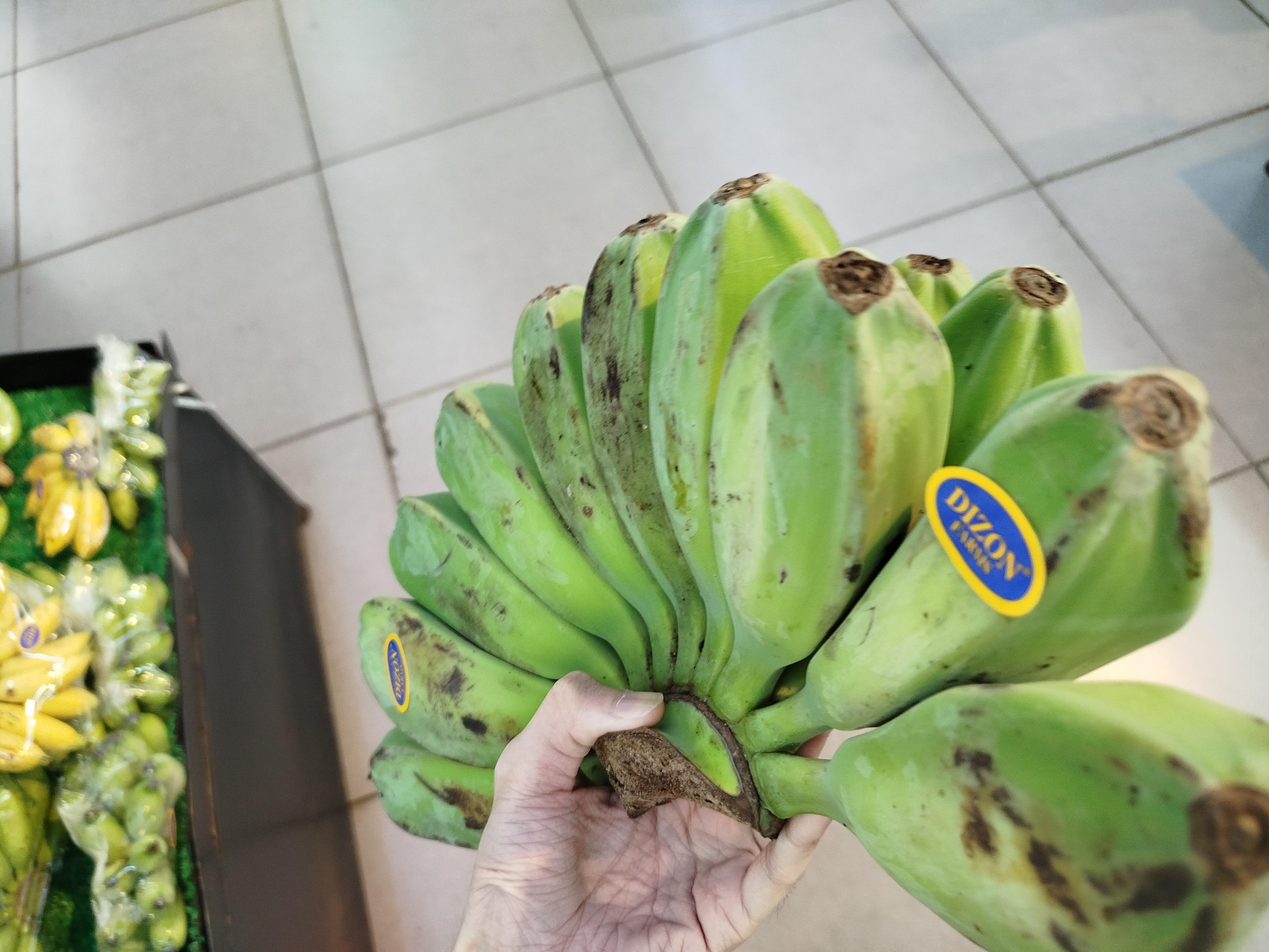underripe: (359, 175, 1269, 952)
